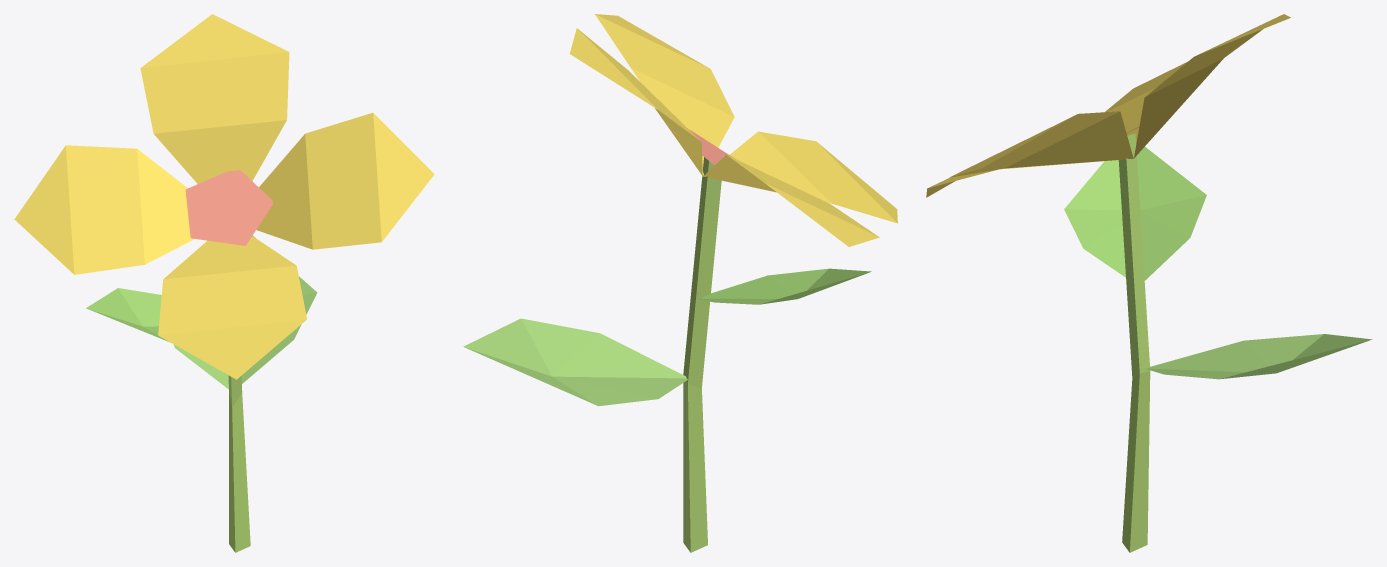
File: Flower_d_OneS_07.fbx
3 views of the same model, side by side, from view 1: azimuth 30°, elevation 25°; view 2: azimuth 150°, elevation 25°; view 3: azimuth 270°, elevation 25° (orthographic). The views are drawn at different scales.
Visible parts, largest first — view 1: Flower_d_OneS_07; view 2: Flower_d_OneS_07; view 3: Flower_d_OneS_07.
Boxes of the visible parts, <box> form: Flower_d_OneS_07: <box>14,14,434,552</box>; Flower_d_OneS_07: <box>463,14,897,552</box>; Flower_d_OneS_07: <box>926,14,1372,552</box>.
Bounding box in the file's own units: 21.82 × 31.68 × 23.19.
